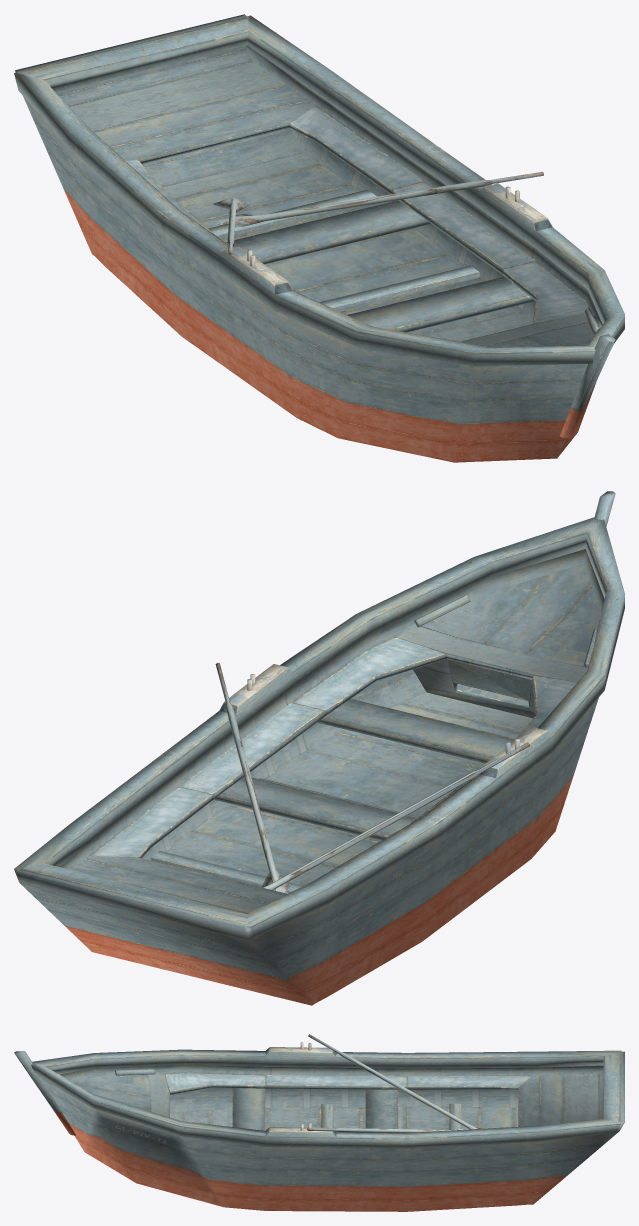
Rendered from OldBoat.obj.
3 renders of one model, top to bottom at view 1: azimuth 30°, elevation 25°; view 2: azimuth 150°, elevation 25°; view 3: azimuth 270°, elevation 25°, orthographic. The views are drawn at different scales.
Parts seen in each view (by area): view 1: boat, oarL_Cylinder, oarR_Cylinder_002; view 2: boat, oarR_Cylinder_002, oarL_Cylinder; view 3: boat, oarR_Cylinder_002, oarL_Cylinder.
Boxes of the visible parts, box(x1,y1,x2,y2) form: boat: box(14, 14, 624, 462); oarL_Cylinder: box(215, 171, 543, 226); oarR_Cylinder_002: box(213, 197, 249, 254); boat: box(14, 491, 624, 1005); oarR_Cylinder_002: box(262, 742, 529, 890); oarL_Cylinder: box(215, 662, 289, 893); boat: box(14, 1042, 624, 1211); oarR_Cylinder_002: box(308, 1034, 480, 1129); oarL_Cylinder: box(307, 1128, 468, 1132).
Bounding box in the file's own units: 14.74 × 8.65 × 39.18.
